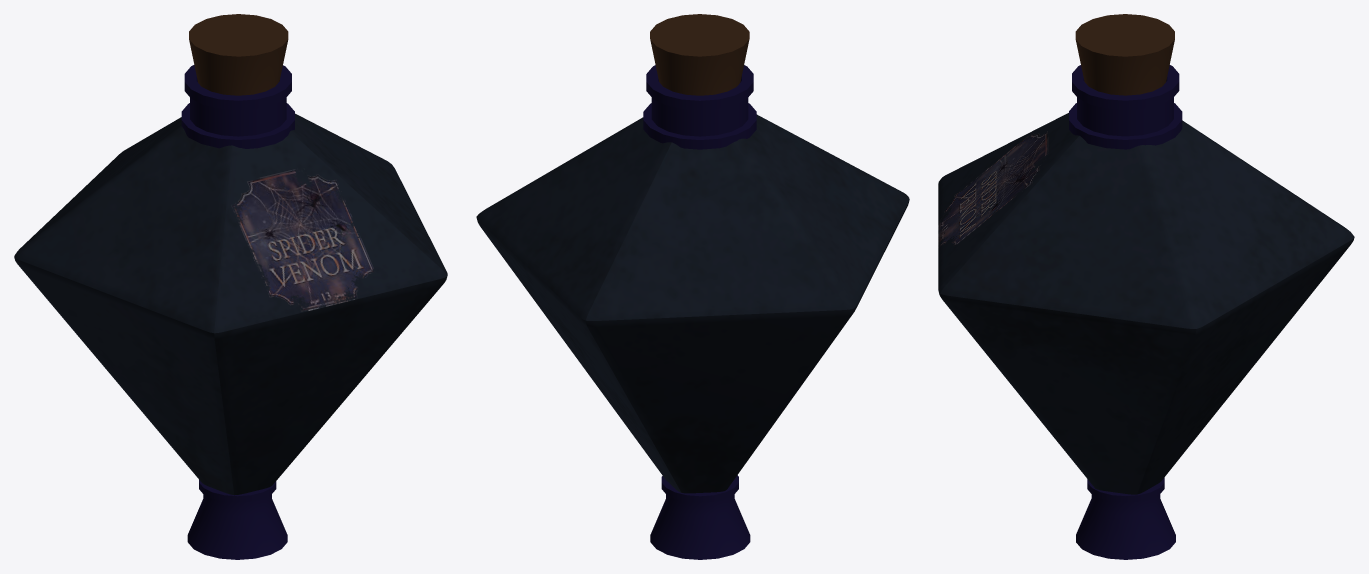
File: SpiderVenomBottle.fbx
3 views of the same model, side by side, from view 1: azimuth 30°, elevation 25°; view 2: azimuth 150°, elevation 25°; view 3: azimuth 270°, elevation 25° (orthographic).
Visible parts, largest first — view 1: SpiderVenomBottle; view 2: SpiderVenomBottle; view 3: SpiderVenomBottle.
Boxes of the visible parts, x1,y1,x2,y2 form: SpiderVenomBottle: (14, 14, 447, 559); SpiderVenomBottle: (476, 14, 909, 559); SpiderVenomBottle: (938, 14, 1354, 559).
Bounding box in the file's own units: 11.8 × 15.04 × 11.27.
